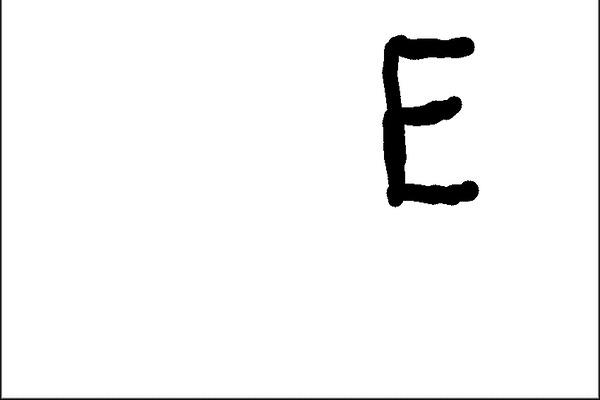E: (375, 30, 484, 211)
